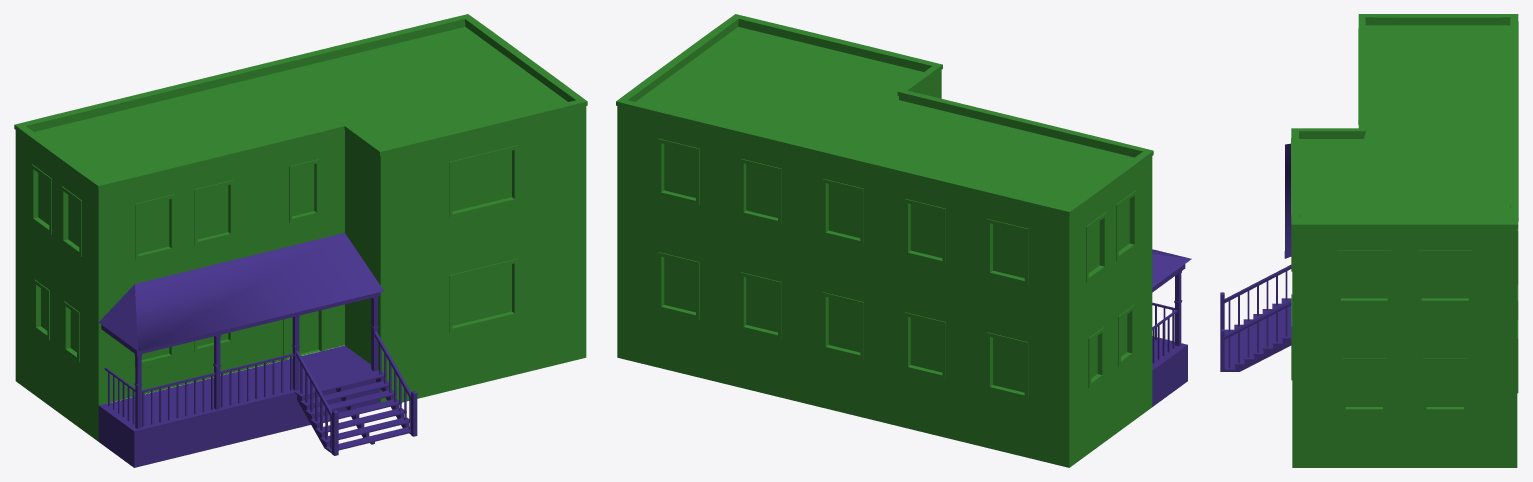
The model's file is House.FBX.
3 renders of one model, left to right at view 1: azimuth 30°, elevation 25°; view 2: azimuth 150°, elevation 25°; view 3: azimuth 270°, elevation 25°, orthographic. The views are drawn at different scales.
Visible parts, largest first — view 1: House, Veranda; view 2: House, Veranda; view 3: House, Veranda.
Boxes of the visible parts, box(x1,y1,x2,y2) form: House: box(14, 14, 587, 441); Veranda: box(98, 233, 417, 467); House: box(616, 14, 1153, 467); Veranda: box(1152, 249, 1191, 406); House: box(1291, 14, 1518, 467); Veranda: box(1220, 143, 1291, 371).
Size of the model in its own units: 1108 by 597 by 663.
